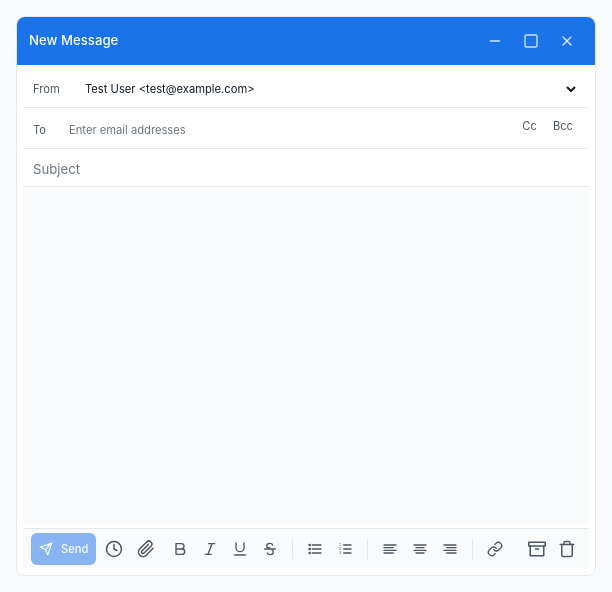
Test: ComposeWindow - Subject changes title › updates the title when subject is typed
Check: the text "New Message" is shown, box [29, 31, 118, 51]
Type "My Email" into the field with placeholder "Subject" at [306, 170], box [33, 160, 579, 180]
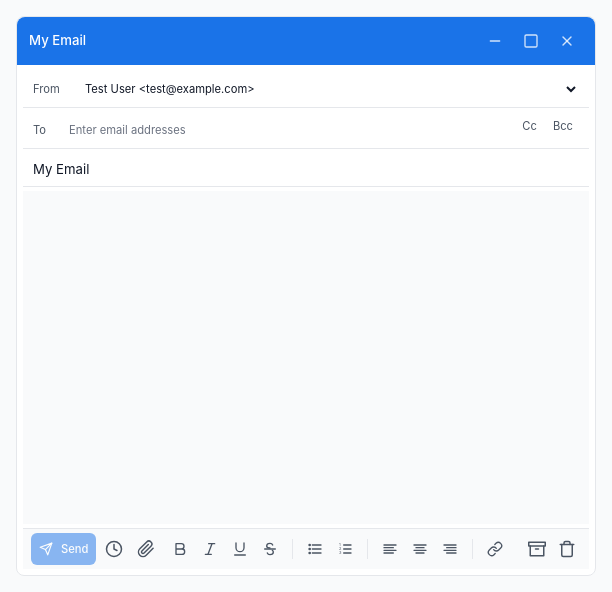
Check: the text "My Email" is shown, box [29, 31, 86, 51]
